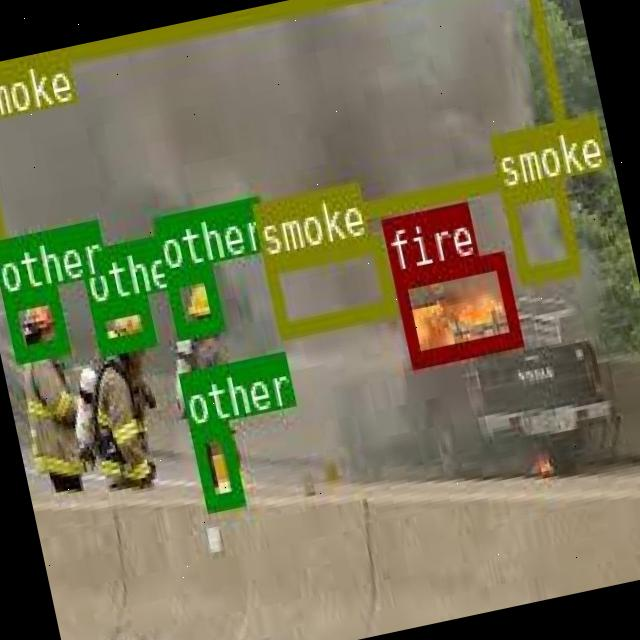fire: (391, 251, 520, 365)
smoke: (0, 0, 575, 288), (262, 232, 394, 334), (498, 175, 578, 280)
